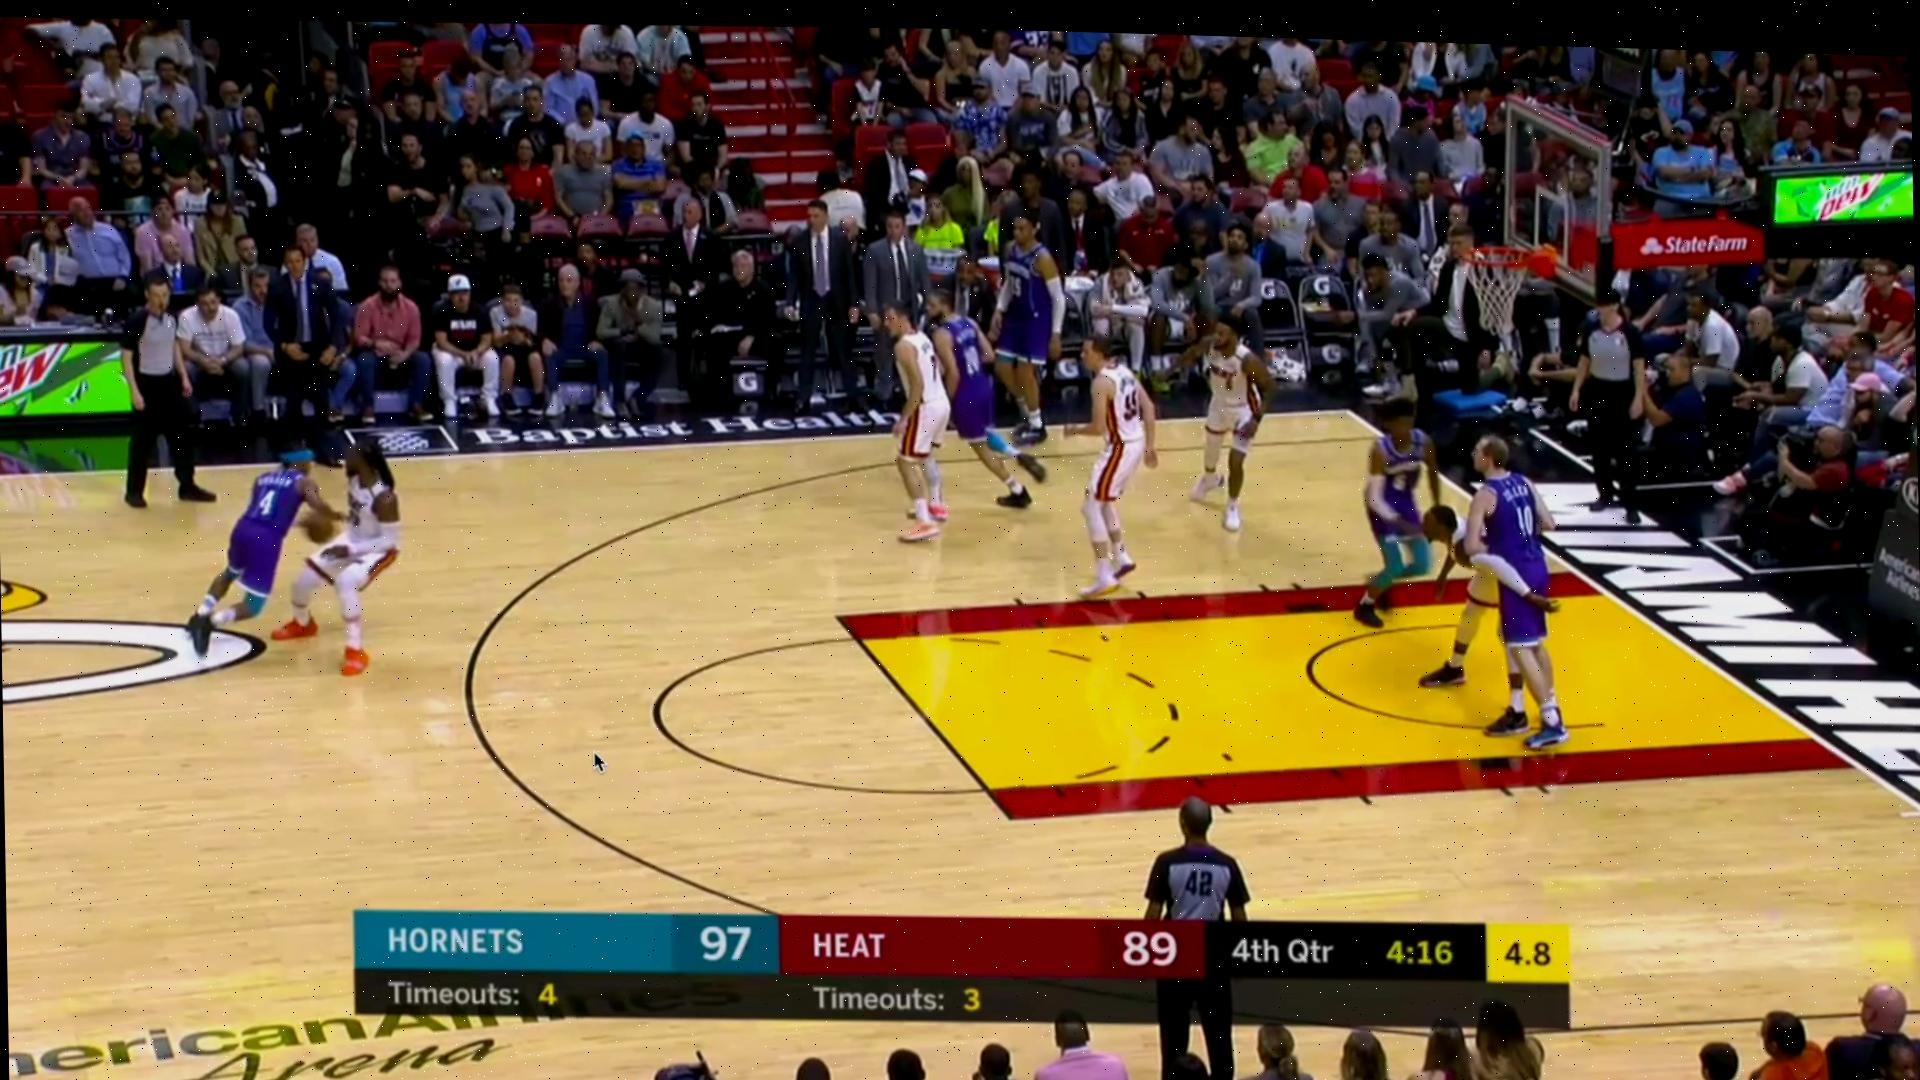no_foul: (1422, 436, 1567, 740)
